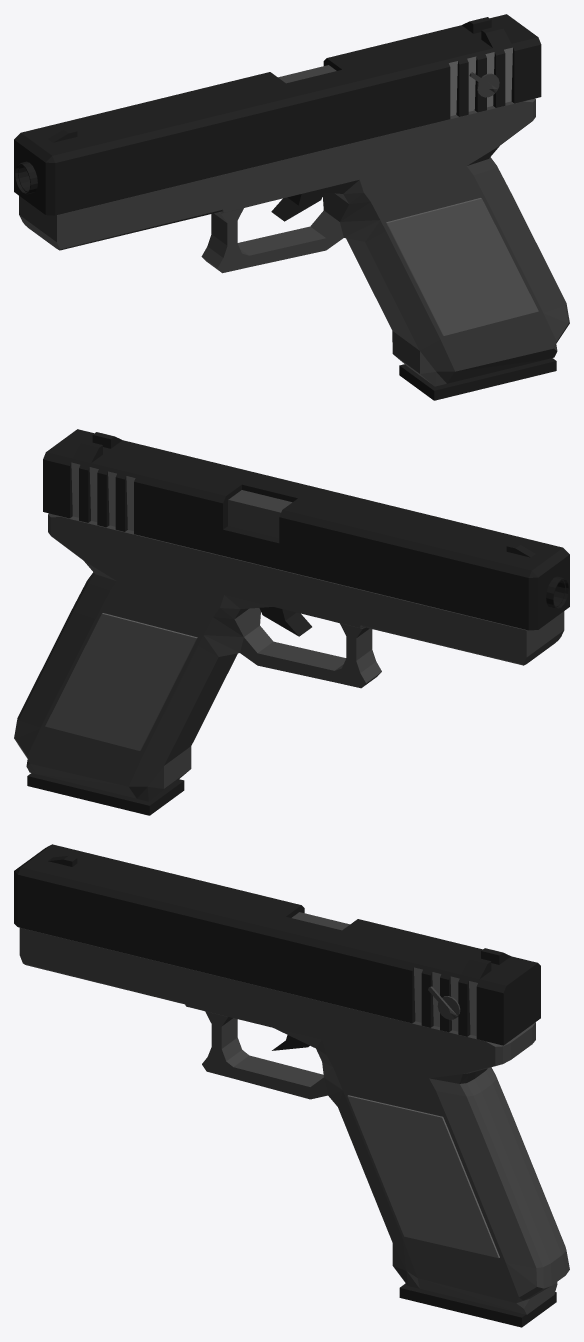
The model's file is Glock-18.fbx.
3 views of the same model, one above another, from view 1: azimuth 30°, elevation 25°; view 2: azimuth 150°, elevation 25°; view 3: azimuth 330°, elevation 25° (orthographic).
Parts seen in each view (by area): view 1: handle, Rifle, Magazine, Cube; view 2: handle, Rifle, Magazine, gate, Cube; view 3: handle, Rifle, Magazine.
Boxes of the visible parts, x1=… form: handle: x1=19, y1=98, x2=569, y2=386; Rifle: x1=14, y1=14, x2=541, y2=215; Magazine: x1=399, y1=358, x2=556, y2=400; Cube: x1=271, y1=191, x2=323, y2=221; handle: x1=14, y1=513, x2=564, y2=801; Rifle: x1=43, y1=429, x2=569, y2=630; Magazine: x1=27, y1=773, x2=184, y2=815; gate: x1=228, y1=490, x2=292, y2=538; Cube: x1=259, y1=607, x2=311, y2=636; handle: x1=19, y1=927, x2=569, y2=1314; Rifle: x1=14, y1=844, x2=540, y2=1045; Magazine: x1=399, y1=1283, x2=556, y2=1327.
Size of the model in its own units: 24.94 by 15.4 by 3.34.
